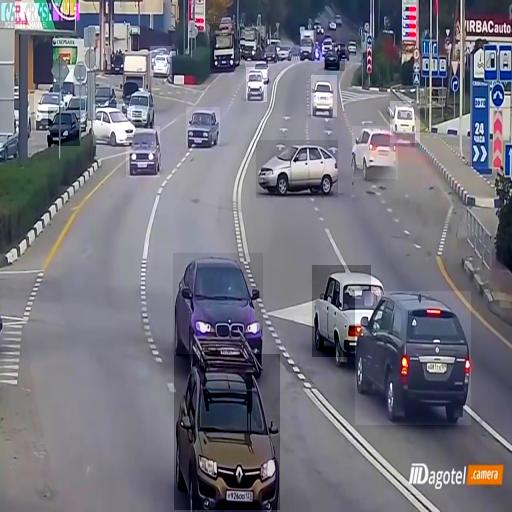小汽车: (174, 354, 280, 510), (355, 291, 471, 425), (173, 253, 263, 354), (312, 265, 371, 357), (256, 140, 338, 198), (352, 126, 398, 179), (93, 104, 135, 146), (126, 126, 160, 177), (210, 24, 245, 70), (186, 107, 220, 148), (390, 101, 420, 143), (48, 107, 80, 146), (311, 75, 337, 117), (34, 92, 62, 130), (246, 67, 267, 102), (298, 28, 316, 65), (150, 46, 172, 76), (324, 44, 345, 71)
